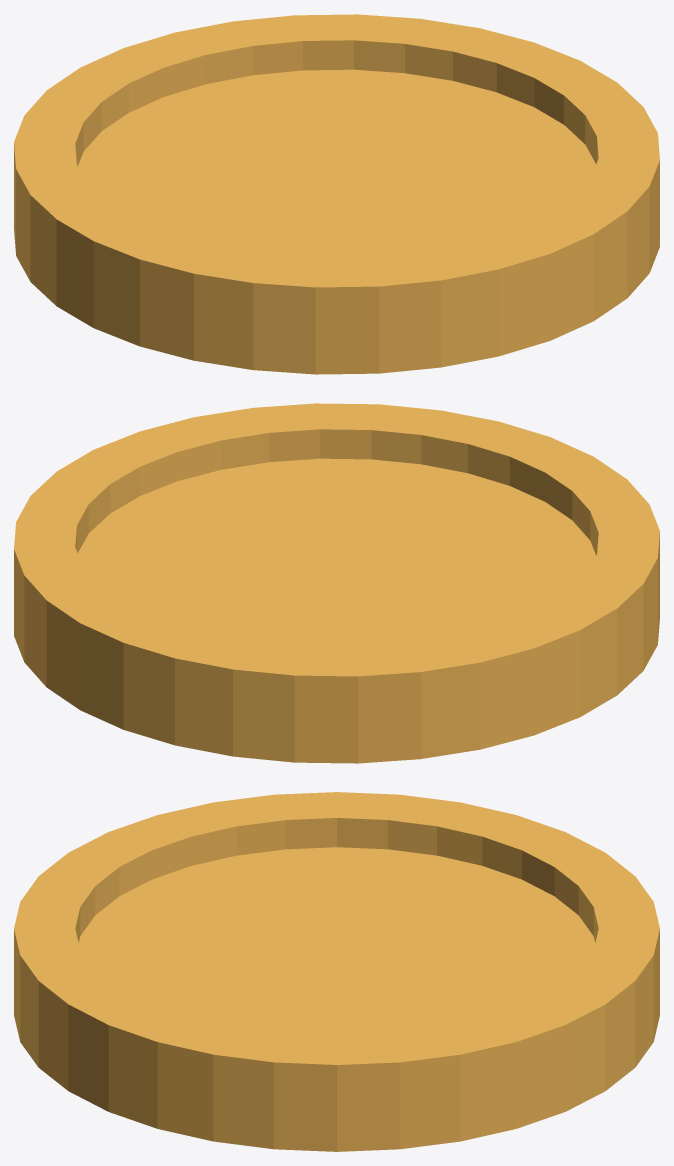
File: Gold.fbx
3 renders of one model, top to bottom at view 1: azimuth 30°, elevation 25°; view 2: azimuth 150°, elevation 25°; view 3: azimuth 270°, elevation 25°, orthographic.
Parts seen in each view (by area): view 1: Circle.001; view 2: Circle.001; view 3: Circle.001.
Boxes of the visible parts, x1,y1,x2,y2 form: Circle.001: [14, 14, 659, 374]; Circle.001: [14, 403, 659, 763]; Circle.001: [14, 792, 659, 1151].
Size of the model in its own units: 200 by 29.68 by 200.
